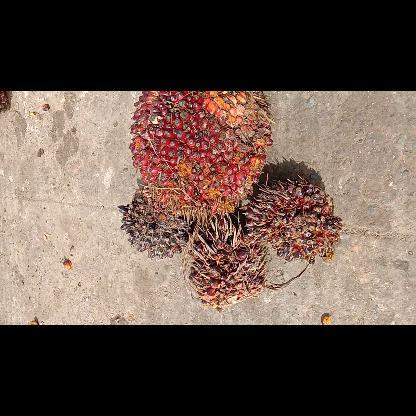TBS abnormal: (244, 175, 342, 265), (184, 219, 268, 311), (115, 184, 192, 260)
TBS masak: (126, 91, 274, 221)
